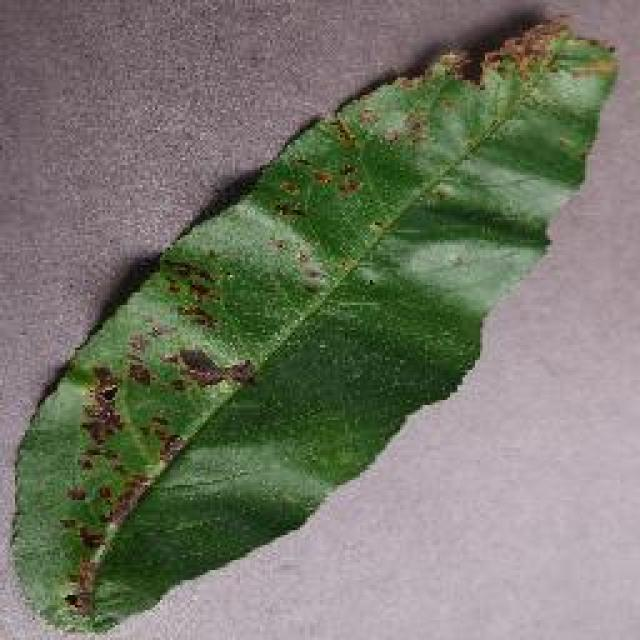Bacterial_spot: (22, 243, 292, 640), (289, 112, 452, 220), (452, 13, 632, 102)
